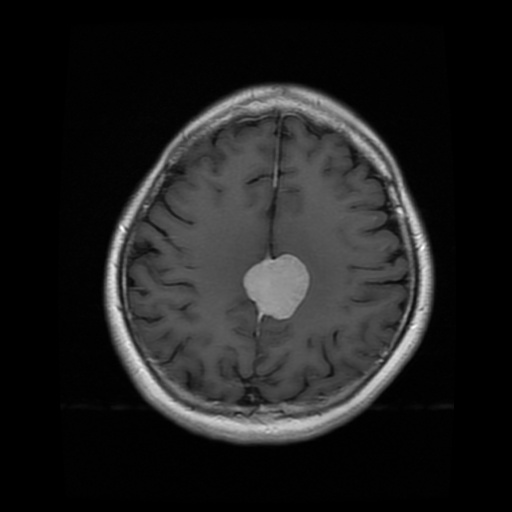meningioma: (243, 253, 310, 320)
